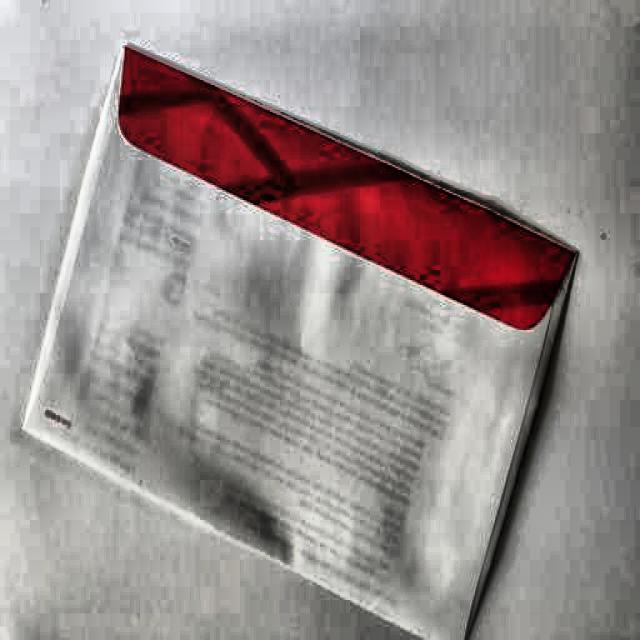paper: (59, 40, 580, 640)
